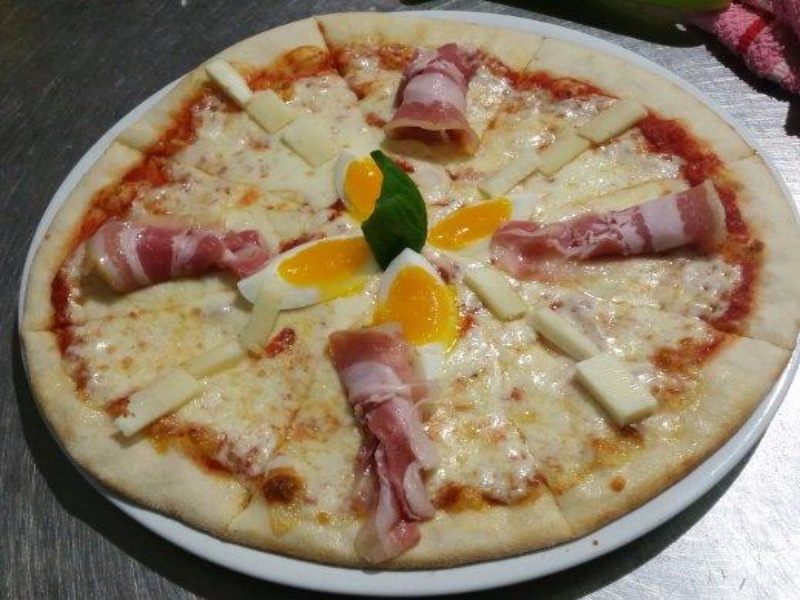oeuf: (237, 235, 382, 316), (383, 252, 465, 372), (426, 197, 543, 264), (331, 146, 386, 218)
